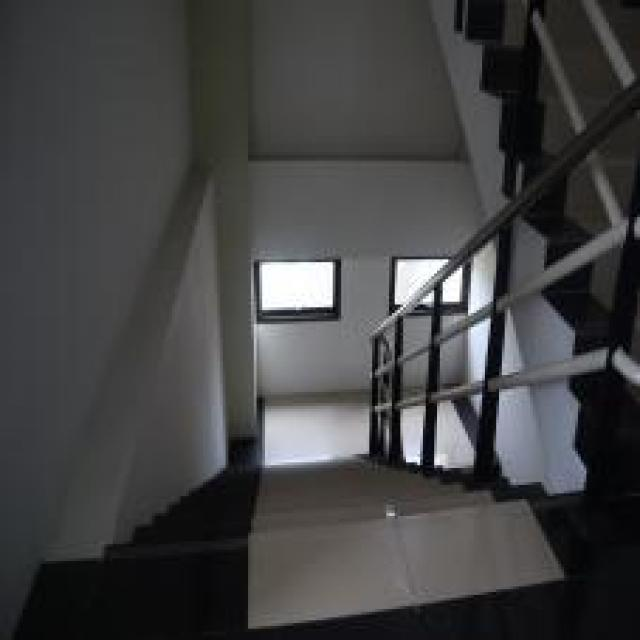downstair: (164, 457, 491, 637)
